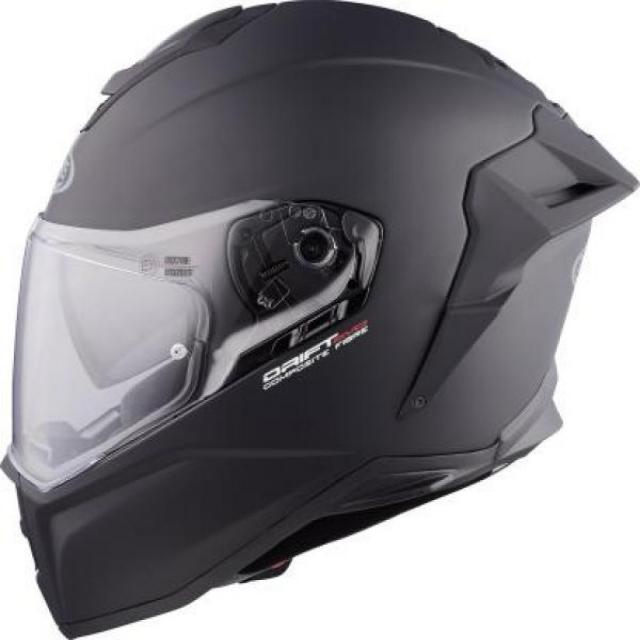Helmet: (5, 4, 552, 580)
